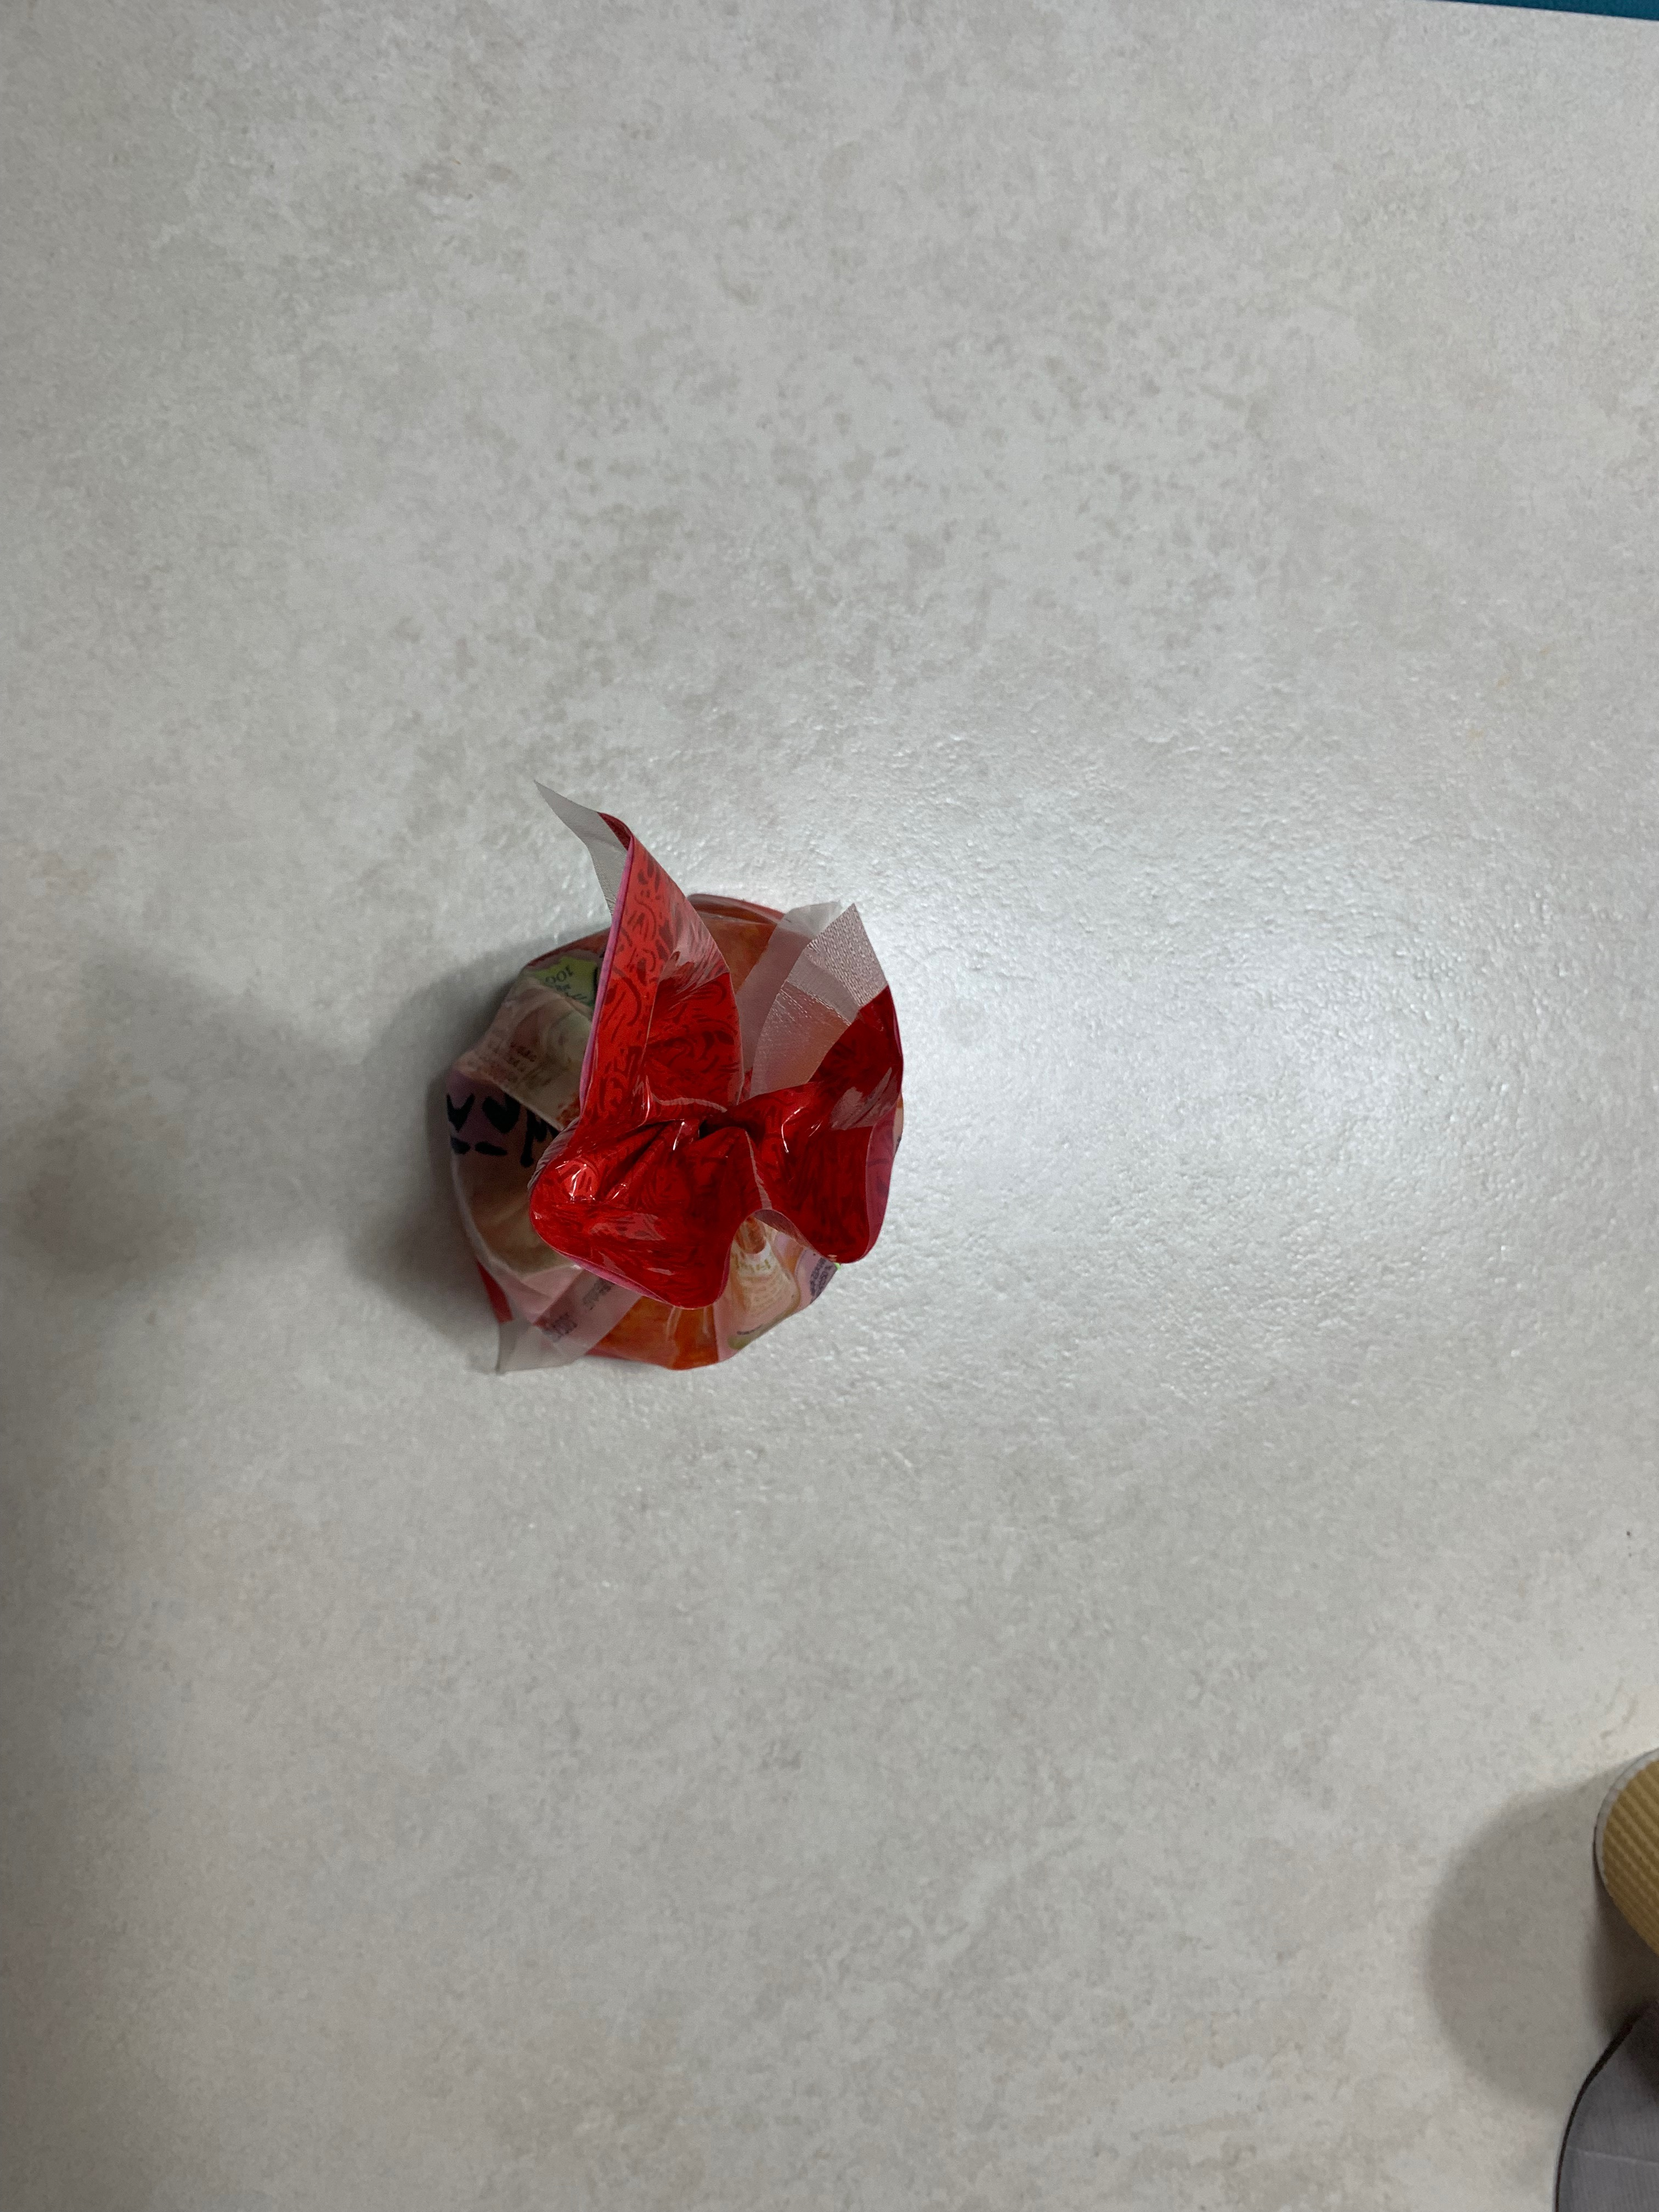kimchi: (429, 786, 901, 1379)
